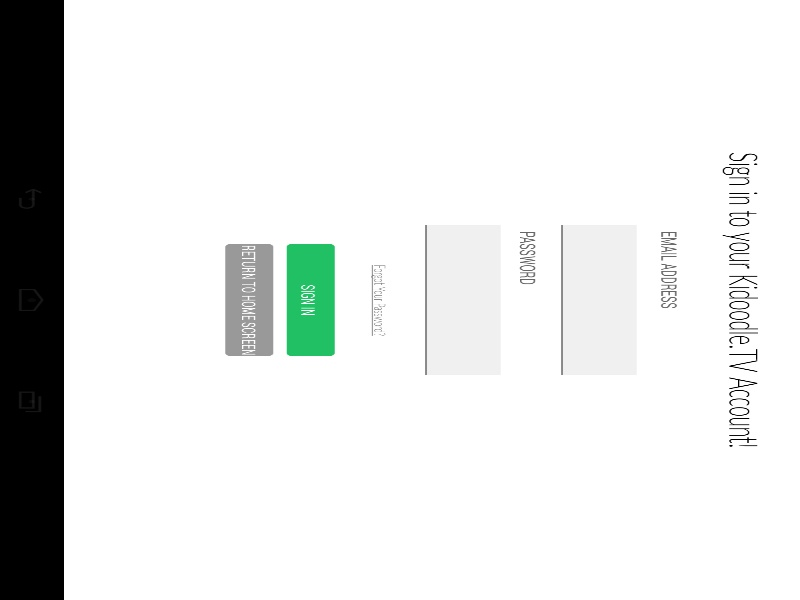Button: (520, 246, 760, 269), (520, 218, 760, 240), (558, 181, 721, 211)
Input: (480, 76, 800, 111), (480, 140, 800, 175)
